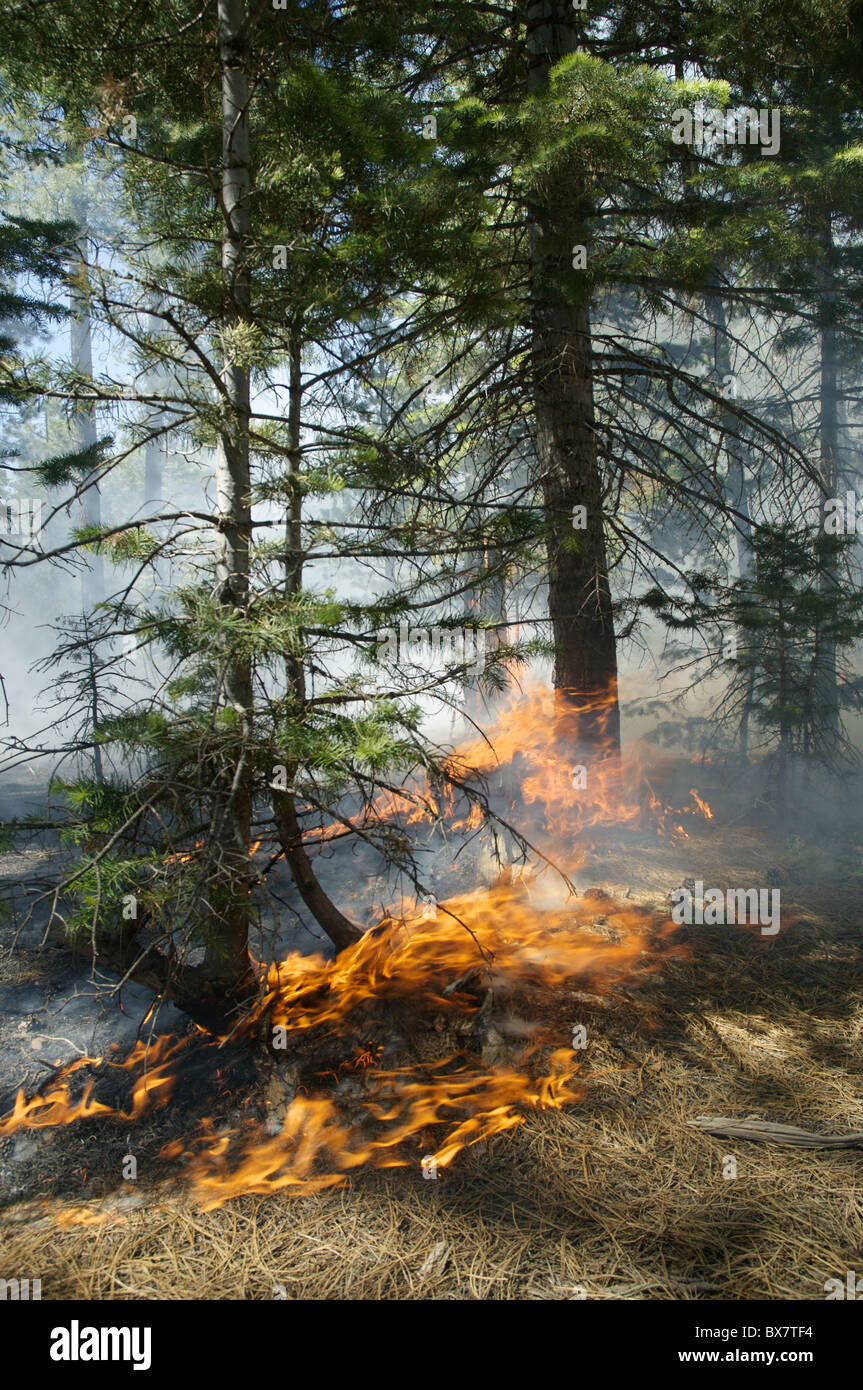fire: (2, 773, 805, 1227), (171, 611, 745, 940)
